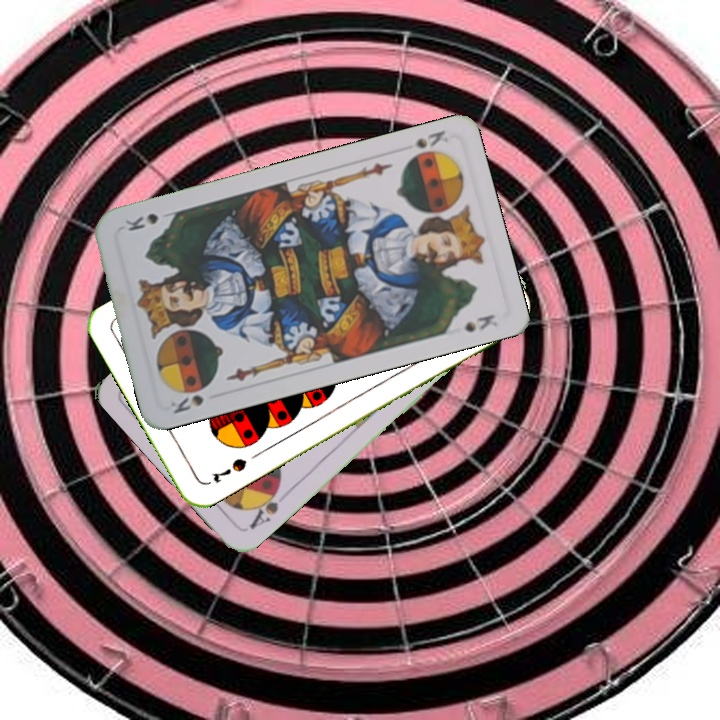S7: (208, 454, 250, 486)
SA: (245, 480, 283, 532)
SK: (403, 126, 450, 163), (166, 390, 207, 417)
